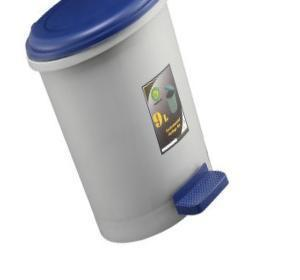Bote de Basura: (28, 11, 223, 246)
